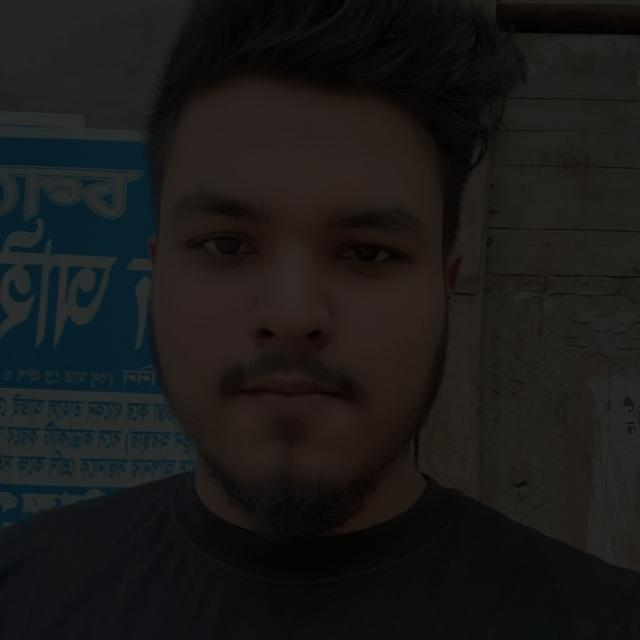Natural: (115, 73, 473, 516)
